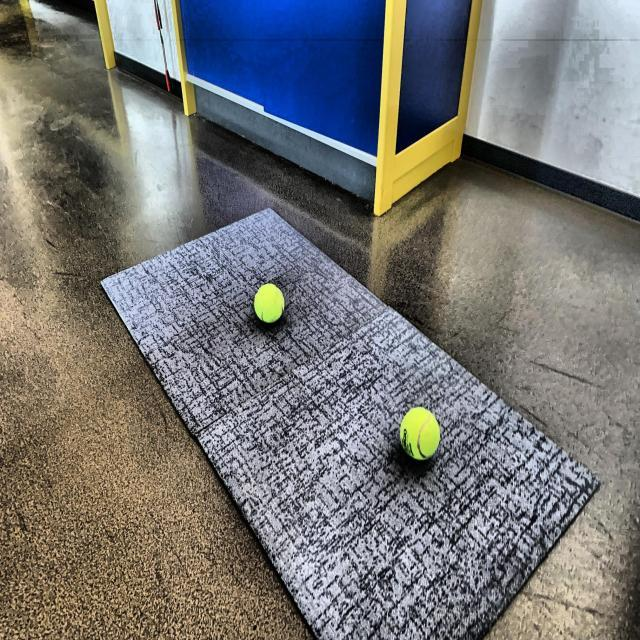tennis-ball: (396, 404, 444, 468), (254, 280, 287, 325)
